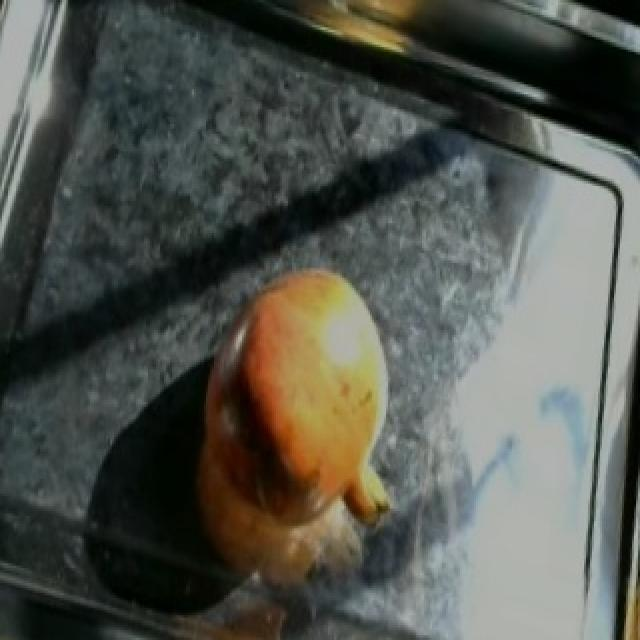fruit: (170, 253, 414, 558)
